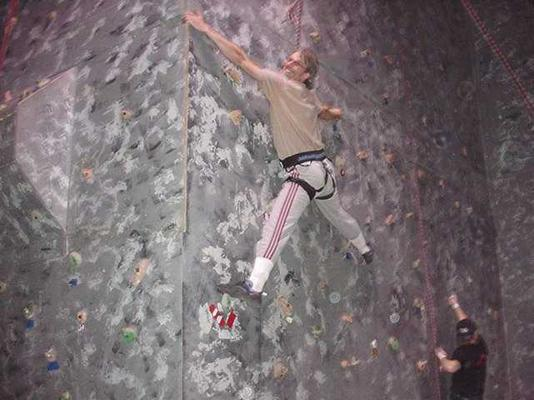person: (183, 8, 376, 297)
